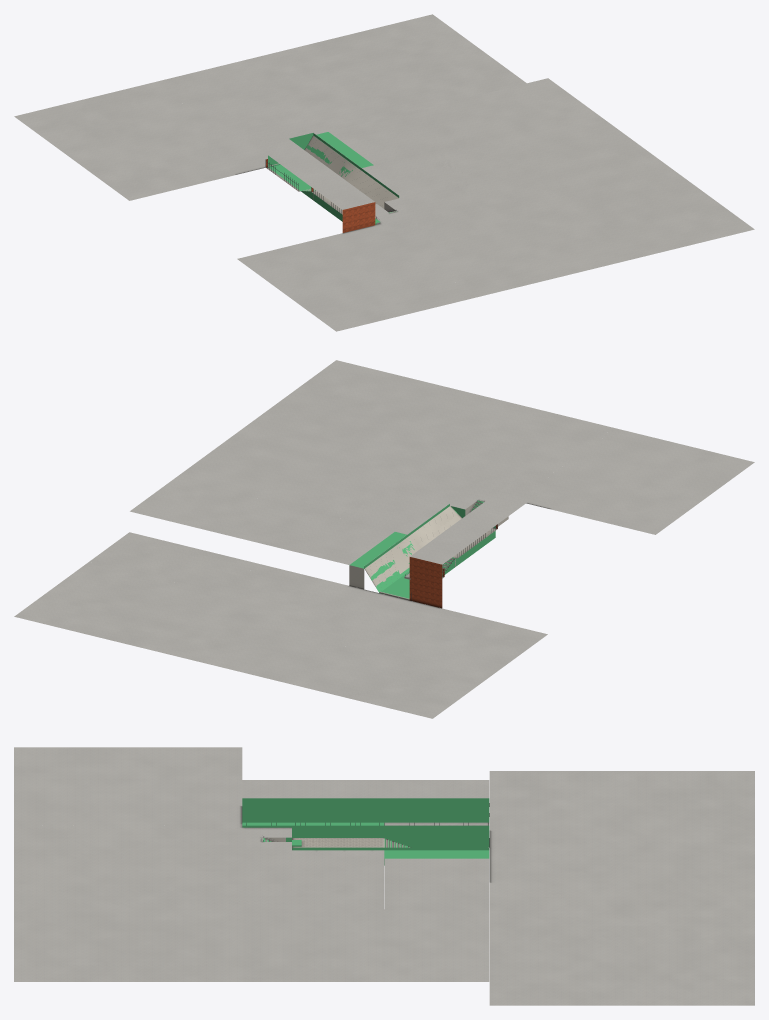
The model's file is france25.glb.
The picture shows the model from 3 angles, top to bottom: view 1: azimuth 30°, elevation 25°; view 2: azimuth 150°, elevation 25°; view 3: azimuth 270°, elevation 25°; orthographic projection. The views are drawn at different scales.
Parts seen in each view (by area): view 1: ENV_Concrete_smooth@q2#0, ENV_Concrete_smooth@q0#0, ENV_Concrete_smooth@q120#0, ENV_Concrete_smooth@q302#0, ENV_Concrete_smooth@q121#0, ENV_Concrete_smooth@q0#1, ENV_Concrete_smooth@q303#0, ENV_Concrete_smooth@q123#0, ENV_Concrete_smooth@q300#0, ENV_Concrete_smooth@q2#1, ENV_Concrete_smooth@q301#0, ENV_Concrete_smooth@q0#2 (+23 smaller); view 2: ENV_Concrete_smooth@q0#0, ENV_Concrete_smooth@q2#0, ENV_Concrete_smooth@q302#0, ENV_Concrete_smooth@q301#0, ENV_Concrete_smooth@q303#0, ENV_Concrete_smooth@q120#0, ENV_Concrete_smooth@q0#1, ENV_Concrete_smooth@q300#0, ENV_Concrete_smooth@q2#1, ENV_Concrete_smooth@q121#0, ENV_Concrete_smooth@q0#2, ENV_Concrete_smooth@q123#0 (+22 smaller); view 3: ENV_Concrete_smooth@q0#0, ENV_Concrete_smooth@q2#0, ENV_Concrete_smooth@q120#0, ENV_Concrete_smooth@q301#0, ENV_Concrete_smooth@q123#0, ENV_Concrete_smooth@q303#0, ENV_Concrete_smooth@q0#1, ENV_Concrete_smooth@q302#0, ENV_Concrete_smooth@q121#0, ENV_Concrete_smooth@q2#1, COL_Building, ENV_Concrete_smooth@q300#0 (+21 smaller).
Part boxes in pixels (x1=…): ENV_Concrete_smooth@q2#0: x1=237, y1=157, x2=475, y2=331; ENV_Concrete_smooth@q0#0: x1=14, y1=82, x2=313, y2=200; ENV_Concrete_smooth@q120#0: x1=154, y1=46, x2=376, y2=136; ENV_Concrete_smooth@q302#0: x1=401, y1=206, x2=624, y2=297; ENV_Concrete_smooth@q121#0: x1=303, y1=14, x2=507, y2=100; ENV_Concrete_smooth@q0#1: x1=16, y1=84, x2=310, y2=200; ENV_Concrete_smooth@q303#0: x1=550, y1=174, x2=754, y2=260; ENV_Concrete_smooth@q123#0: x1=378, y1=69, x2=593, y2=142; ENV_Concrete_smooth@q300#0: x1=362, y1=143, x2=549, y2=242; ENV_Concrete_smooth@q2#1: x1=239, y1=158, x2=470, y2=329; ENV_Concrete_smooth@q301#0: x1=464, y1=111, x2=679, y2=205; ENV_Concrete_smooth@q0#2: x1=18, y1=83, x2=307, y2=199; ENV_Concrete_smooth@q0#0: x1=293, y1=523, x2=547, y2=718; ENV_Concrete_smooth@q2#0: x1=456, y1=428, x2=754, y2=534; ENV_Concrete_smooth@q302#0: x1=391, y1=392, x2=615, y2=482; ENV_Concrete_smooth@q301#0: x1=176, y1=415, x2=389, y2=509; ENV_Concrete_smooth@q303#0: x1=261, y1=360, x2=464, y2=446; ENV_Concrete_smooth@q120#0: x1=145, y1=593, x2=367, y2=684; ENV_Concrete_smooth@q0#1: x1=293, y1=524, x2=546, y2=717; ENV_Concrete_smooth@q300#0: x1=305, y1=447, x2=540, y2=534; ENV_Concrete_smooth@q2#1: x1=460, y1=429, x2=751, y2=534; ENV_Concrete_smooth@q121#0: x1=14, y1=561, x2=218, y2=648; ENV_Concrete_smooth@q0#2: x1=300, y1=524, x2=547, y2=716; ENV_Concrete_smooth@q123#0: x1=90, y1=478, x2=302, y2=593; ENV_Concrete_smooth@q0#0: x1=384, y1=771, x2=754, y2=849; ENV_Concrete_smooth@q2#0: x1=14, y1=747, x2=384, y2=825; ENV_Concrete_smooth@q120#0: x1=582, y1=849, x2=754, y2=932; ENV_Concrete_smooth@q301#0: x1=187, y1=909, x2=384, y2=981; ENV_Concrete_smooth@q123#0: x1=384, y1=909, x2=581, y2=1005; ENV_Concrete_smooth@q303#0: x1=14, y1=909, x2=186, y2=981; ENV_Concrete_smooth@q0#1: x1=385, y1=771, x2=754, y2=849; ENV_Concrete_smooth@q302#0: x1=14, y1=825, x2=186, y2=909; ENV_Concrete_smooth@q121#0: x1=582, y1=932, x2=754, y2=1005; ENV_Concrete_smooth@q2#1: x1=14, y1=747, x2=384, y2=824; COL_Building: x1=242, y1=798, x2=489, y2=847; ENV_Concrete_smooth@q300#0: x1=187, y1=825, x2=384, y2=909.
Size of the model in its own units: 180 by 18 by 240.
12 materials, 6 textured.
